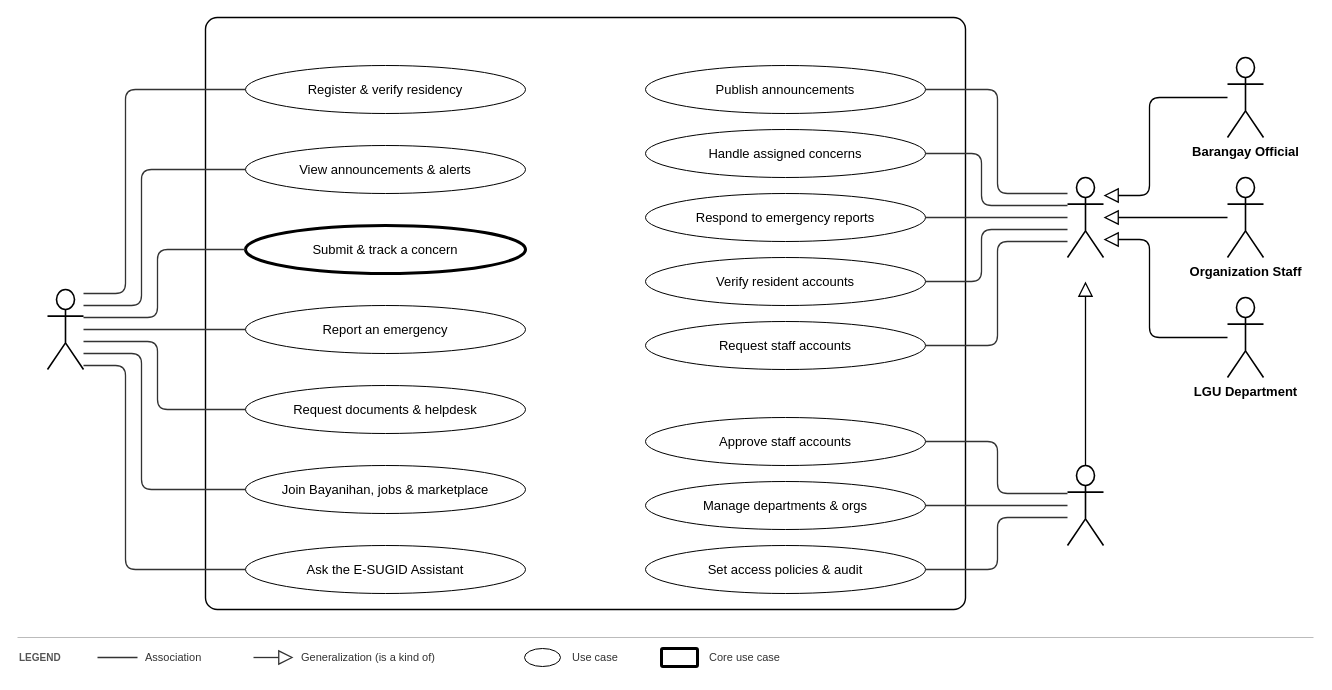
Some shapes in this 1332 by 690 pixel diagram are drawn without their labels. Each missing label, with the box of its shape:
E-SUGID Community Services System: (204, 16, 966, 610)
LGU IT Admin: (1066, 464, 1104, 546)
Resident: (46, 288, 84, 370)
Staff: (1066, 176, 1104, 258)
